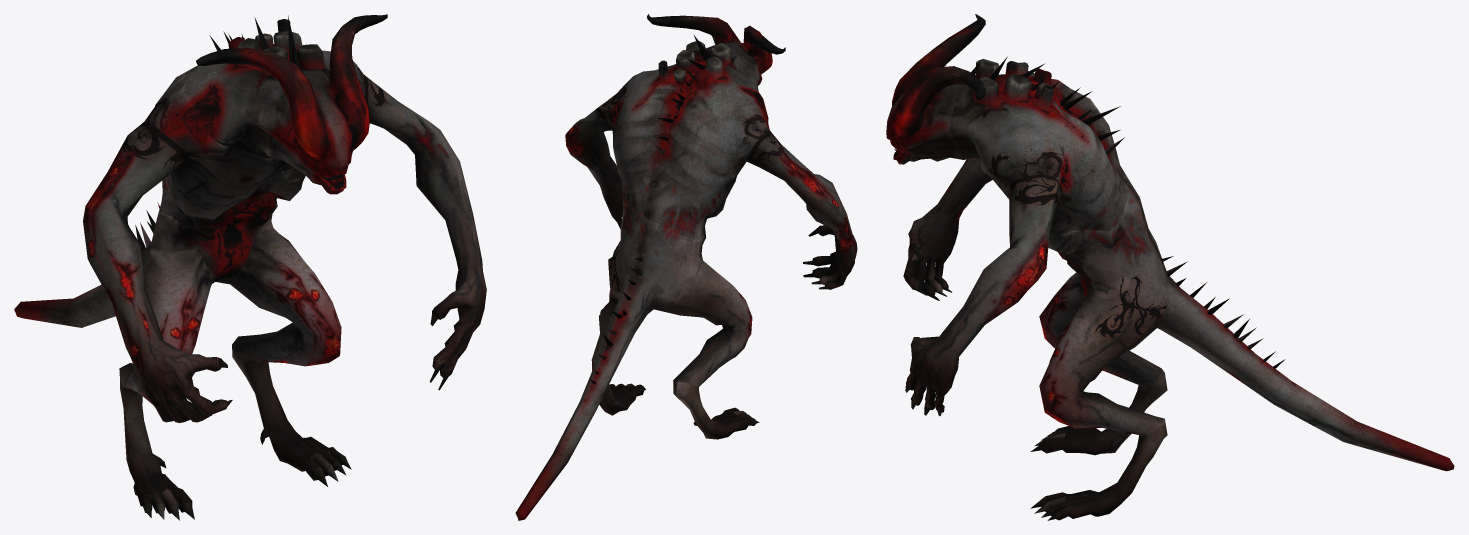
File: Helldemon.obj
3 renders of one model, left to right at view 1: azimuth 30°, elevation 25°; view 2: azimuth 150°, elevation 25°; view 3: azimuth 270°, elevation 25°, orthographic. The views are drawn at different scales.
Visible parts, largest first — view 1: severed_right_arm, head_helldemon, severed_left_leg, severed_torso1, severed_left_arm, severed_hip_tail, severed_right_leg, severed_torso2; view 2: severed_torso2, severed_hip_tail, severed_torso1, severed_right_leg, severed_right_arm, severed_left_arm, head_helldemon, severed_left_leg; view 3: severed_hip_tail, severed_torso2, severed_left_arm, severed_left_leg, head_helldemon, severed_right_leg, severed_right_arm, severed_torso1.
Part boxes in pixels (<box>): severed_right_arm: <box>83,130,232,422</box>; head_helldemon: <box>196,14,387,194</box>; severed_left_leg: <box>232,246,351,486</box>; severed_torso1: <box>134,72,305,234</box>; severed_left_arm: <box>360,69,486,390</box>; severed_hip_tail: <box>14,195,293,327</box>; severed_right_leg: <box>119,250,212,520</box>; severed_torso2: <box>184,15,363,181</box>; severed_torso2: <box>613,35,765,192</box>; severed_hip_tail: <box>515,206,707,520</box>; severed_torso1: <box>622,101,774,240</box>; severed_right_leg: <box>669,265,759,439</box>; severed_right_arm: <box>752,136,857,289</box>; severed_left_arm: <box>565,88,622,229</box>; head_helldemon: <box>647,14,785,85</box>; severed_left_leg: <box>591,288,645,415</box>; severed_hip_tail: <box>1062,215,1454,471</box>; severed_torso2: <box>949,56,1128,234</box>; severed_left_arm: <box>905,165,1071,416</box>; severed_left_leg: <box>1030,318,1167,520</box>; head_helldemon: <box>886,14,985,164</box>; severed_right_leg: <box>1030,272,1167,455</box>; severed_right_arm: <box>903,157,992,300</box>; severed_torso1: <box>1048,90,1144,258</box>.
Bounding box in the file's own units: 34.97 × 44.31 × 52.84.
